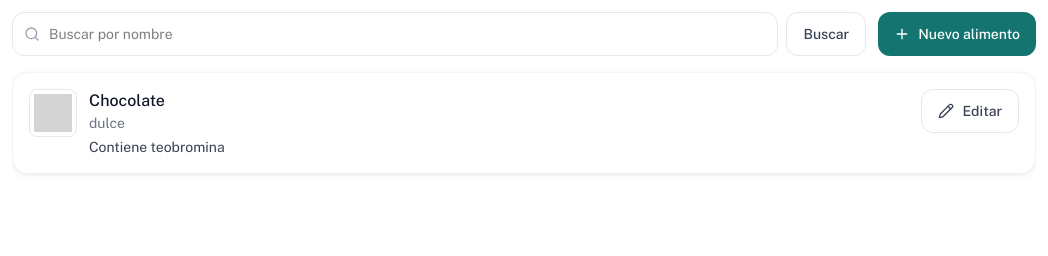
Test: FoodsTab › tells the admin when a search has no results
The width and height of the screenshot is (1048, 256).
expect the text "Chocolate" is shown: met, box [89,91,165,110]
Type "palta" into the search field named "Buscar alimento en el catálogo" at (395, 34), box [12,12,778,56]
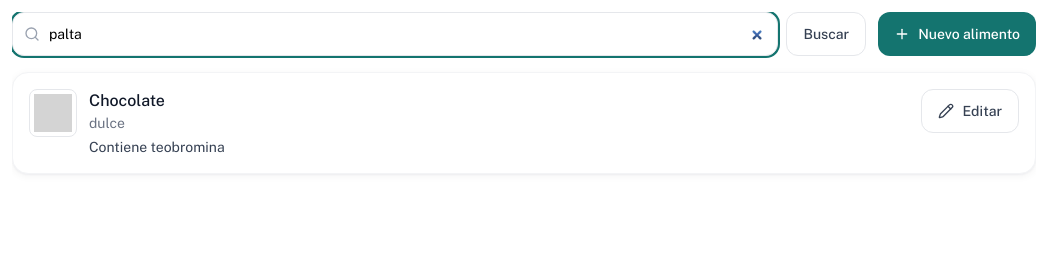
Click the button "Buscar" at (826, 34), box [786,12,866,56]
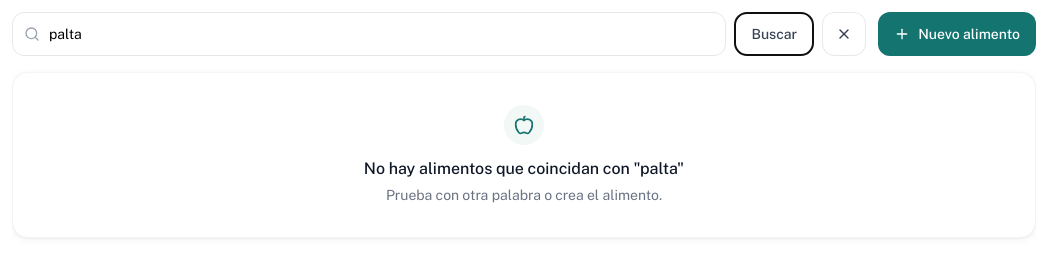
expect the text "No hay alimentos que coincidan con \"palta\"" is shown: met, box [364,159,684,178]
